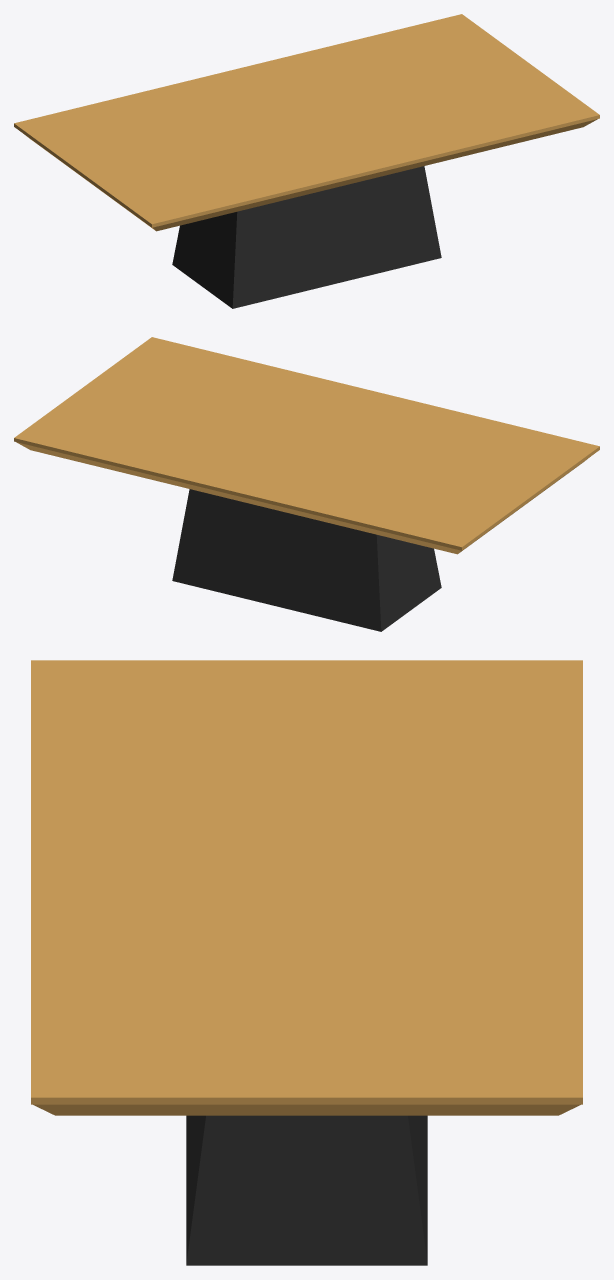
3 views of the same model, one above another, from view 1: azimuth 30°, elevation 25°; view 2: azimuth 150°, elevation 25°; view 3: azimuth 270°, elevation 25° (orthographic). The views are drawn at different scales.
Parts seen in each view (by area): view 1: mounting_pad, pedestal; view 2: mounting_pad, pedestal; view 3: mounting_pad, pedestal.
Boxes of the visible parts, left/top/right/bottom form: mounting_pad: left=14, top=14, right=599, bottom=231; pedestal: left=172, top=166, right=441, bottom=308; mounting_pad: left=14, top=337, right=599, bottom=554; pedestal: left=172, top=489, right=441, bottom=631; mounting_pad: left=31, top=660, right=582, bottom=1115; pedestal: left=186, top=1115, right=427, bottom=1265.
Bounding box in the file's own units: 1.2 × 0.364 × 0.6401.
